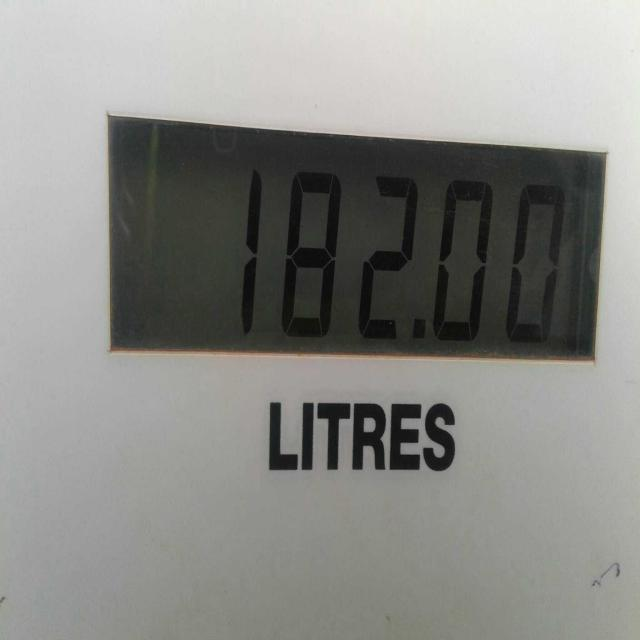.: (408, 308, 433, 358)
0: (501, 183, 577, 352), (430, 168, 497, 352)
1: (229, 159, 269, 337)
2: (349, 170, 417, 342)
8: (276, 161, 348, 345)
